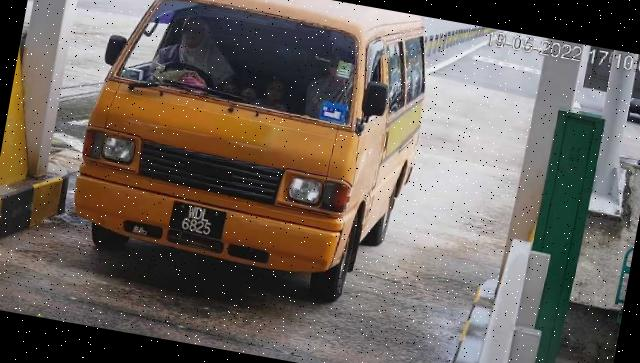License_Plate: (167, 198, 231, 245)
van: (63, 1, 440, 313)
